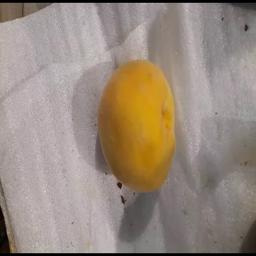Peach Semifresh: (90, 49, 186, 200)
